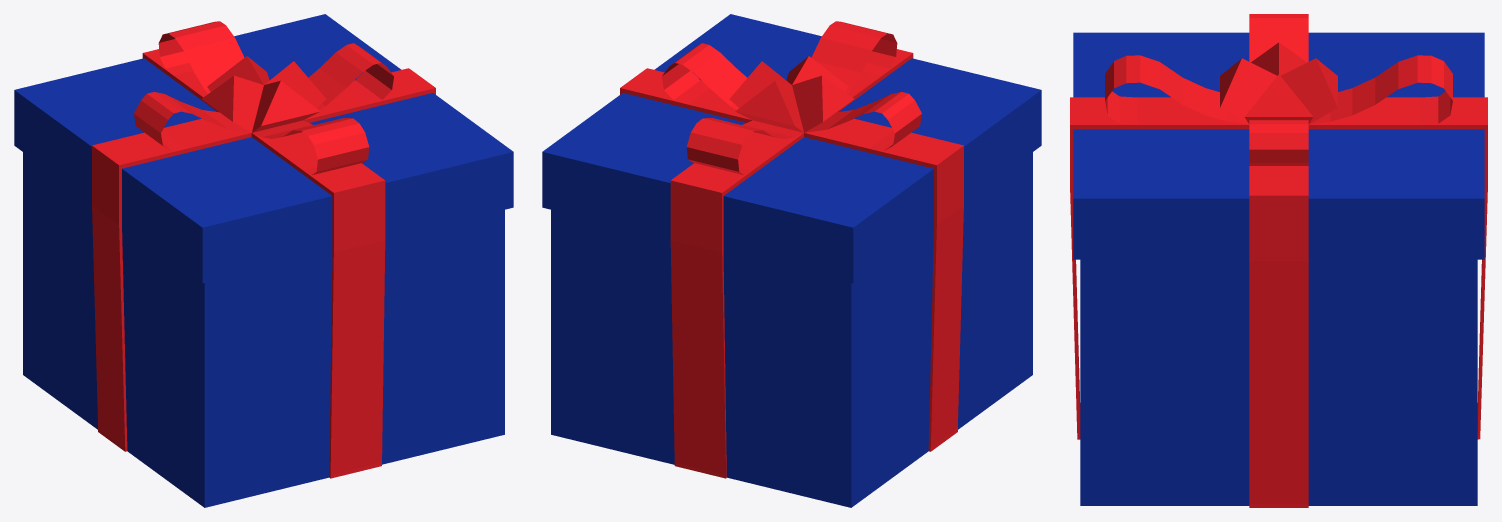
Rendered from Present_Square_Blue.fbx.
The picture shows the model from 3 angles, left to right: view 1: azimuth 30°, elevation 25°; view 2: azimuth 150°, elevation 25°; view 3: azimuth 270°, elevation 25°; orthographic projection. The views are drawn at different scales.
Parts seen in each view (by area): view 1: Present; view 2: Present; view 3: Present.
Part boxes in pixels (x1=…): Present: x1=14, y1=14, x2=513, y2=507; Present: x1=542, y1=14, x2=1041, y2=507; Present: x1=1070, y1=14, x2=1487, y2=507.
Bounding box in the file's own units: 164 × 166 × 171.
